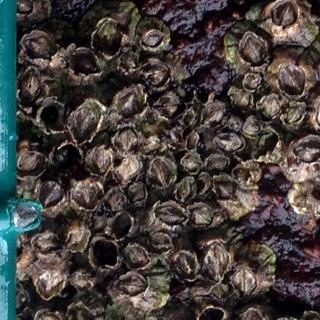Barnacle: (69, 101, 99, 142), (70, 175, 101, 211), (22, 34, 60, 63), (36, 261, 65, 298), (277, 61, 305, 96), (95, 22, 122, 57), (19, 67, 43, 106), (204, 245, 229, 282), (231, 266, 258, 300), (154, 201, 187, 226), (239, 35, 265, 66), (154, 90, 185, 116), (115, 272, 147, 297), (116, 90, 141, 121), (271, 2, 299, 29), (39, 178, 63, 208), (142, 60, 169, 86), (148, 159, 172, 188), (115, 126, 139, 154), (124, 245, 151, 269), (296, 136, 319, 164), (188, 206, 215, 229), (66, 226, 89, 253), (216, 132, 244, 154), (89, 145, 110, 174), (200, 100, 223, 126), (17, 154, 43, 177), (213, 177, 236, 203), (34, 233, 60, 256), (258, 96, 281, 121), (115, 157, 140, 180), (174, 251, 195, 278), (285, 103, 306, 126), (148, 234, 171, 255), (120, 49, 140, 73), (204, 155, 229, 173), (175, 178, 192, 203), (230, 88, 251, 108), (128, 182, 146, 205), (140, 29, 160, 49), (242, 118, 262, 138), (244, 70, 263, 91), (233, 164, 252, 185), (70, 274, 90, 293), (224, 111, 242, 131), (13, 0, 34, 17), (195, 176, 210, 197), (183, 154, 200, 172), (68, 308, 94, 319), (107, 188, 123, 205)
